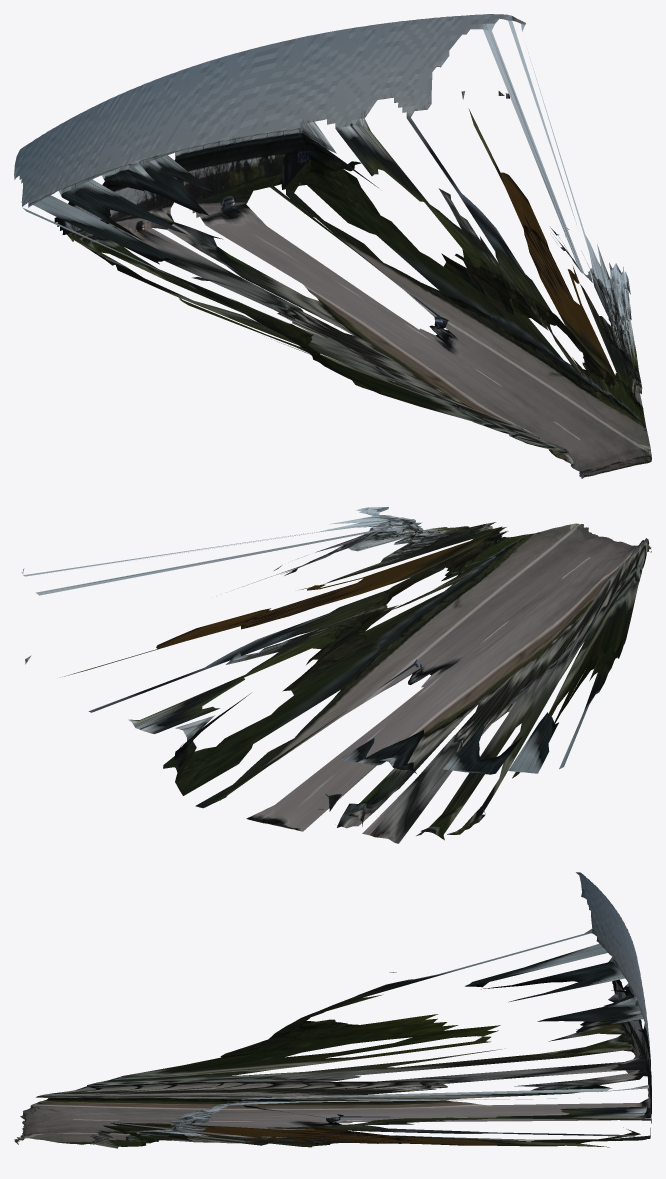
3 views of the same model, one above another, from view 1: azimuth 30°, elevation 25°; view 2: azimuth 150°, elevation 25°; view 3: azimuth 270°, elevation 25° (orthographic). The views are drawn at different scales.
Visible parts, largest first — view 1: defaultobject; view 2: defaultobject; view 3: defaultobject.
Boxes of the visible parts, x1,y1,x2,y2 form: defaultobject: (14,14,651,478); defaultobject: (21,507,651,843); defaultobject: (14,872,651,1148).
Bounding box in the file's own units: 36.83 × 11.73 × 44.71.
1 material, 1 textured.
